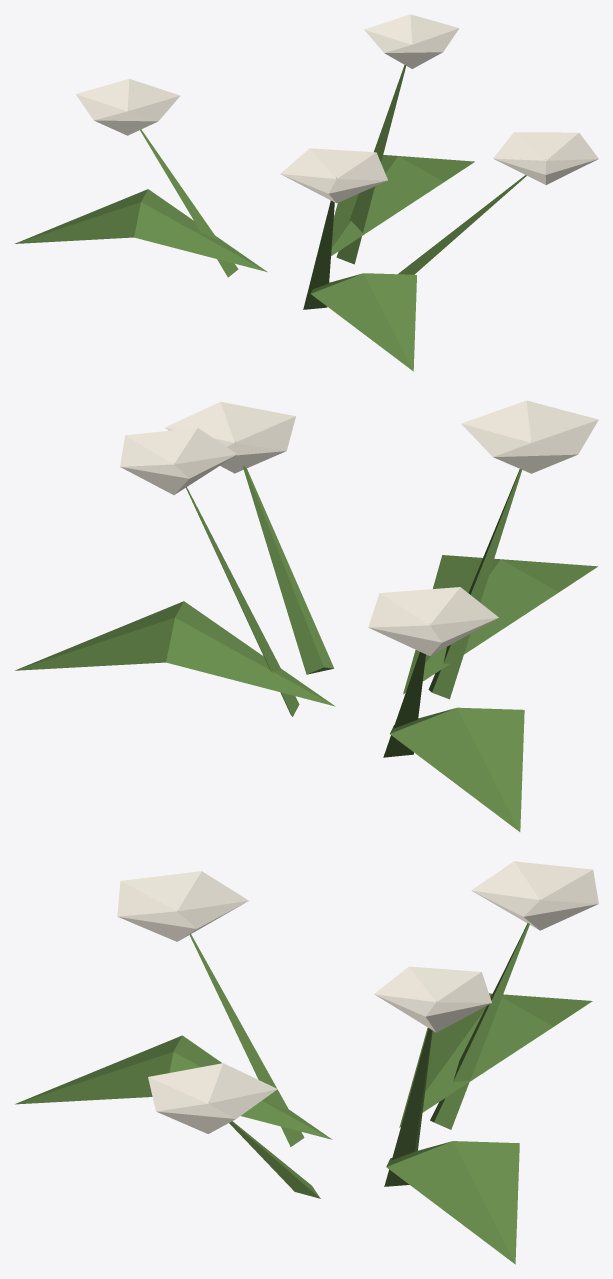
File: Flowers.fbx
3 views of the same model, one above another, from view 1: azimuth 30°, elevation 25°; view 2: azimuth 150°, elevation 25°; view 3: azimuth 270°, elevation 25° (orthographic). The views are drawn at different scales.
Visible parts, largest first — view 1: Leaves, Blooms; view 2: Leaves, Blooms; view 3: Leaves, Blooms.
Boxes of the visible parts, x1,y1,x2,y2 form: Leaves: [15, 65, 545, 371]; Blooms: [76, 14, 598, 203]; Leaves: [15, 441, 597, 831]; Blooms: [120, 400, 598, 655]; Leaves: [15, 923, 592, 1264]; Blooms: [117, 861, 598, 1133].
Size of the model in its own units: 1.2 by 0.52 by 1.13.
